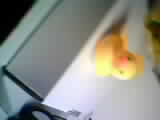duck: (82, 27, 143, 85)
